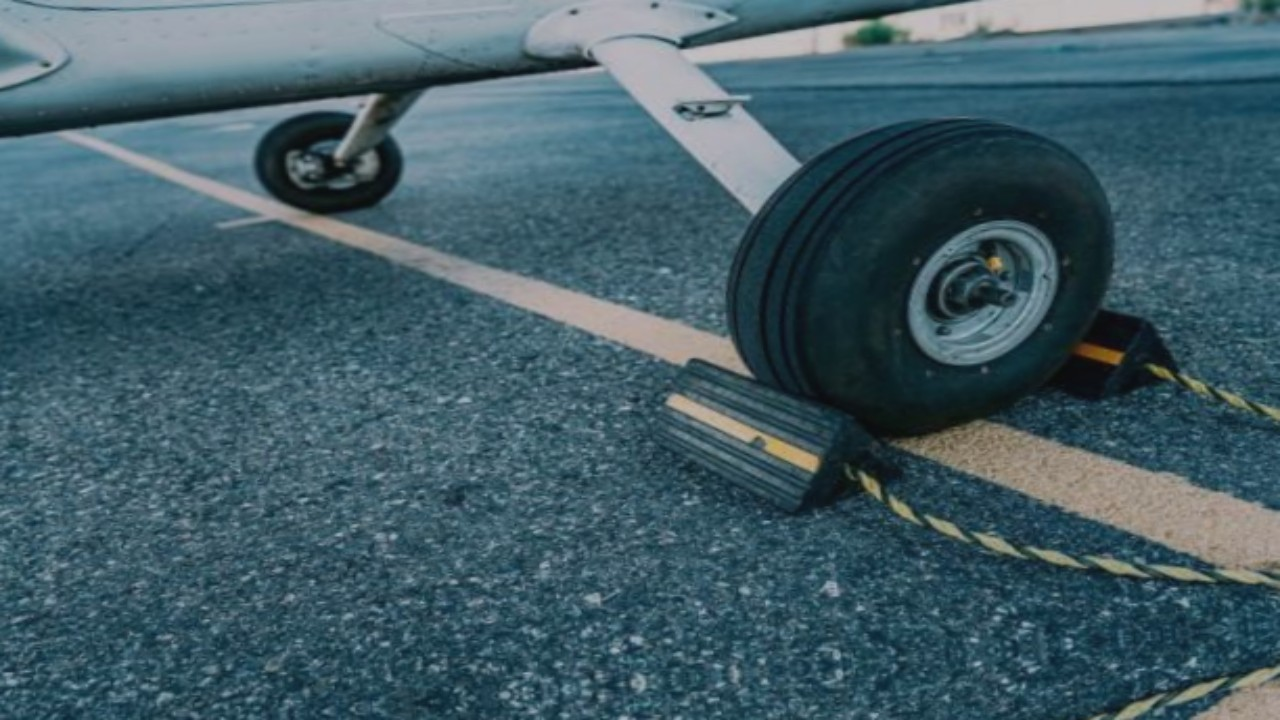chock: (631, 335, 913, 528), (1001, 294, 1187, 409)
wheel: (701, 102, 1142, 452), (240, 100, 407, 222)
